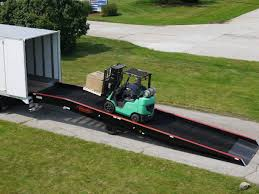Pallet Jack: (82, 62, 158, 122)
Yard Ramp: (33, 81, 258, 168)
